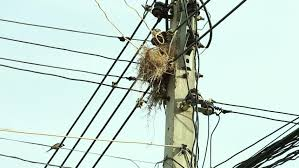bird-nest: (137, 48, 173, 79)
